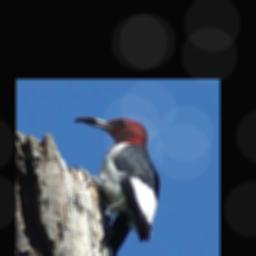Woodpecker: (75, 116, 160, 256)
